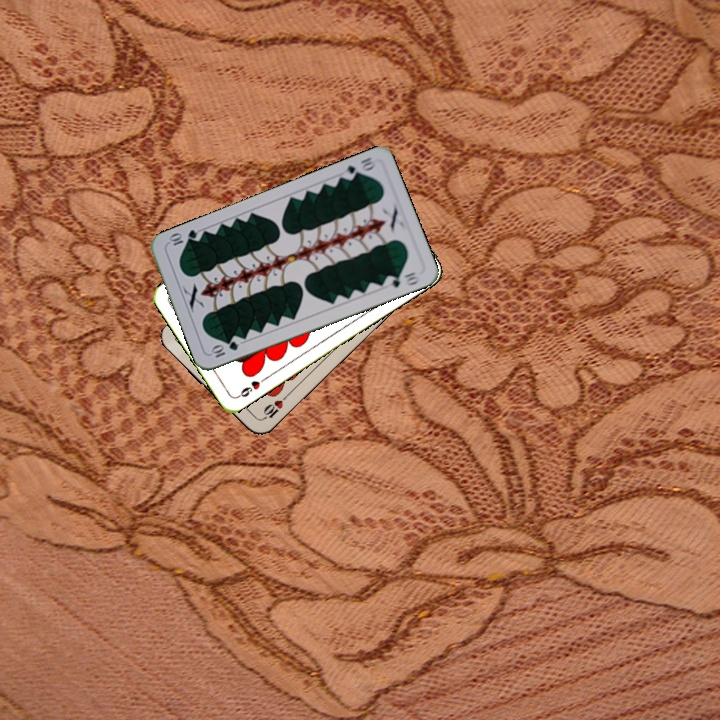G10: (338, 153, 377, 183), (207, 337, 241, 360)
H10: (257, 391, 290, 423)
H9: (233, 373, 269, 401)
